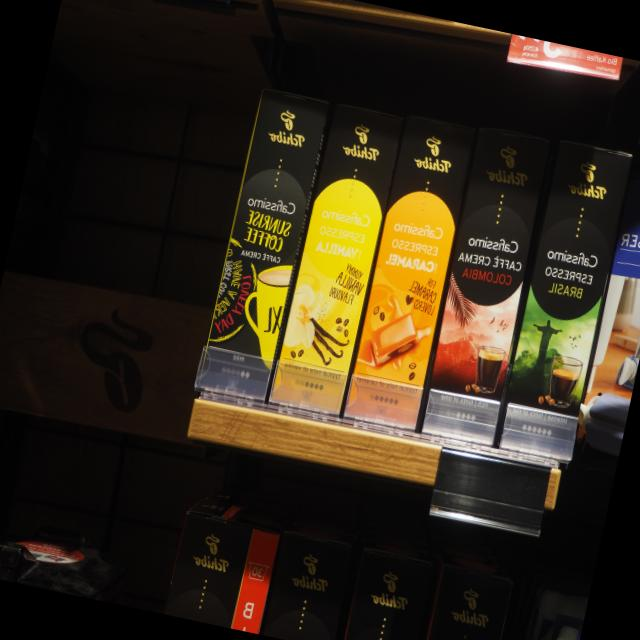Simo CC Colombia: (418, 124, 559, 450)
Simo Es Brazil: (494, 135, 636, 463)
Simo Es Caramel: (340, 104, 481, 434)
Simo Es Vanilla: (265, 92, 406, 421)
Simo Sunrise: (194, 85, 334, 405)
